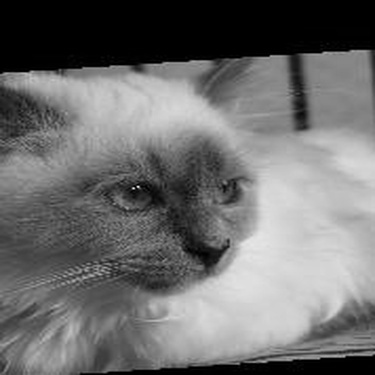cat: (6, 54, 369, 364)
